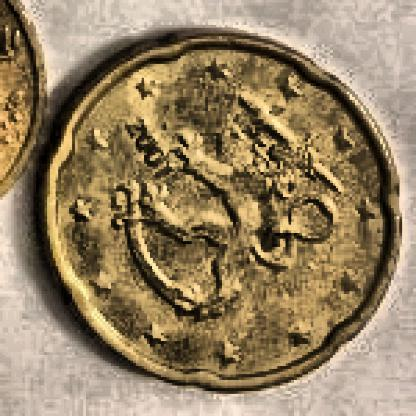coin: (39, 25, 399, 393)
